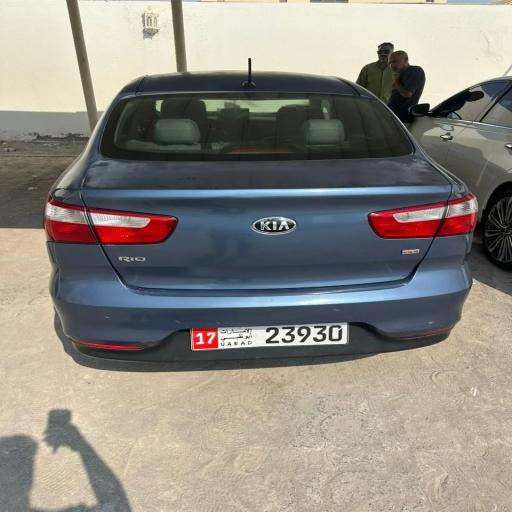license-plates: (191, 322, 348, 351)
